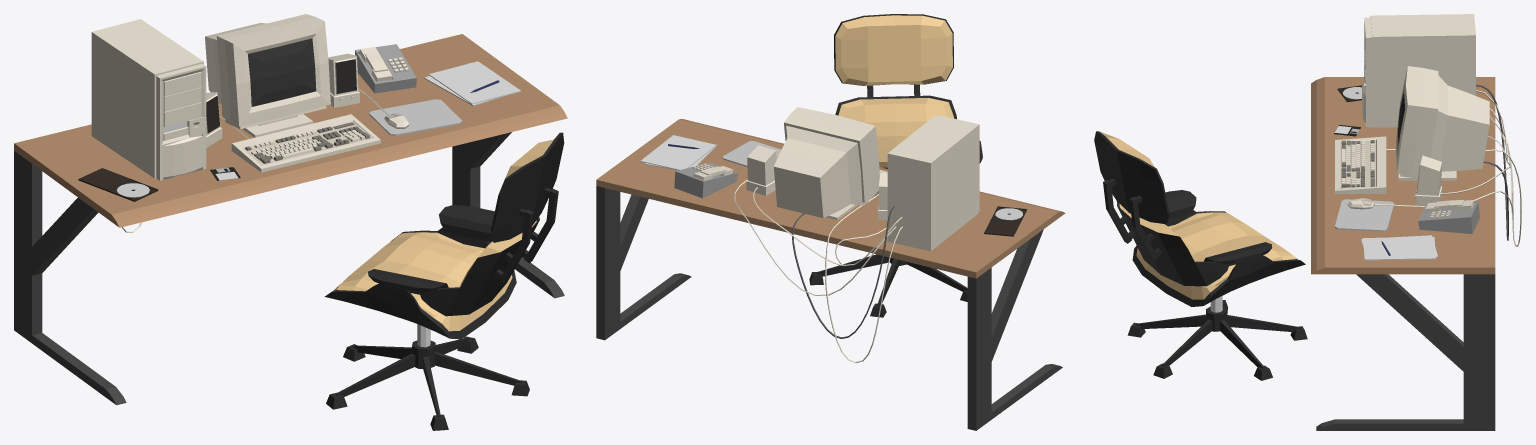
Rendered from computer_desk.glb.
3 views of the same model, side by side, from view 1: azimuth 30°, elevation 25°; view 2: azimuth 150°, elevation 25°; view 3: azimuth 270°, elevation 25° (orthographic). The views are drawn at different scales.
Parts seen in each view (by area): view 1: Office_desk, Cube.000, Computer_case, Computer_monitor.001, Keyboard, Paper2, Mousepad, Phone_stand, SpeakerL, CD_case, SpeakerR, Phonehandle; view 2: Office_desk, Cube.000, Computer_case, Computer_monitor.001, Paper2, SpeakerL, Phone_stand, CD_case, Monitor_cable, KeyboardCable, Mousepad, Speakers_cable (+1 smaller); view 3: Office_desk, Cube.000, Computer_case, Computer_monitor.001, Keyboard, Paper2, Mousepad, Phone_stand, SpeakerL, Monitor_cable, KeyboardCable, Phonehandle.
Boxes of the visible parts, <box> form: Office_desk: <box>14,34,567,405</box>; Cube.000: <box>324,132,564,430</box>; Computer_case: <box>91,19,206,180</box>; Computer_monitor.001: <box>205,14,330,137</box>; Keyboard: <box>231,114,380,172</box>; Paper2: <box>428,61,521,104</box>; Mousepad: <box>369,99,462,135</box>; Phone_stand: <box>355,44,416,93</box>; SpeakerL: <box>328,53,359,107</box>; CD_case: <box>78,168,158,201</box>; SpeakerR: <box>206,92,222,147</box>; Phonehandle: <box>360,47,392,81</box>; Office_desk: <box>596,119,1065,430</box>; Cube.000: <box>809,14,982,317</box>; Computer_case: <box>887,115,979,251</box>; Computer_monitor.001: <box>774,107,879,220</box>; Paper2: <box>640,135,716,170</box>; SpeakerL: <box>746,145,776,195</box>; Phone_stand: <box>674,162,737,198</box>; CD_case: <box>984,206,1026,236</box>; Monitor_cable: <box>792,206,894,338</box>; KeyboardCable: <box>825,194,902,362</box>; Mousepad: <box>722,141,781,166</box>; Speakers_cable: <box>753,187,902,266</box>; Office_desk: <box>1311,77,1495,430</box>; Cube.000: <box>1094,131,1307,380</box>; Computer_case: <box>1362,14,1475,127</box>; Computer_monitor.001: <box>1395,66,1489,180</box>; Keyboard: <box>1335,136,1386,193</box>; Paper2: <box>1363,237,1435,259</box>; Mousepad: <box>1335,199,1394,231</box>; Phone_stand: <box>1418,201,1479,233</box>; SpeakerL: <box>1415,155,1442,205</box>; Monitor_cable: <box>1476,84,1508,240</box>; KeyboardCable: <box>1386,108,1521,246</box>; Phonehandle: <box>1425,200,1474,212</box>.
Size of the model in its own units: 2.06 by 1.28 by 1.95.
Materials: 2 (2 with a texture image).
